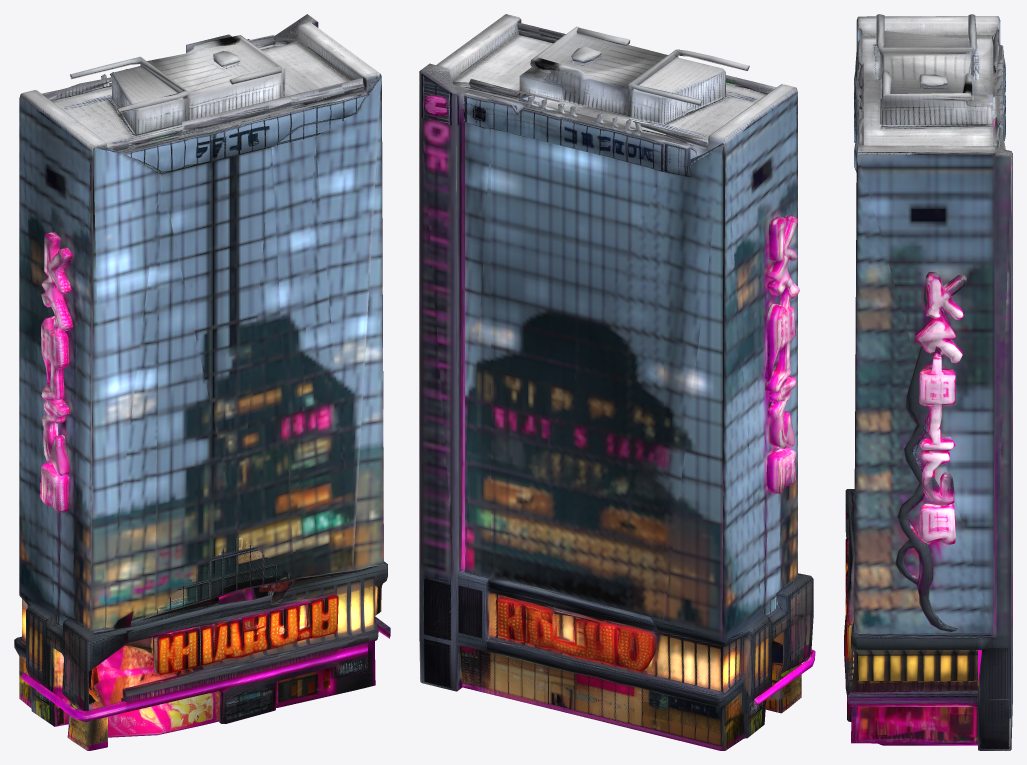
The model's file is shopping_3.glb.
3 views of the same model, side by side, from view 1: azimuth 30°, elevation 25°; view 2: azimuth 150°, elevation 25°; view 3: azimuth 270°, elevation 25° (orthographic). The views are drawn at different scales.
Bounding box in the file's own units: 1.03 × 1.91 × 0.4736.
1 material, 1 textured.
